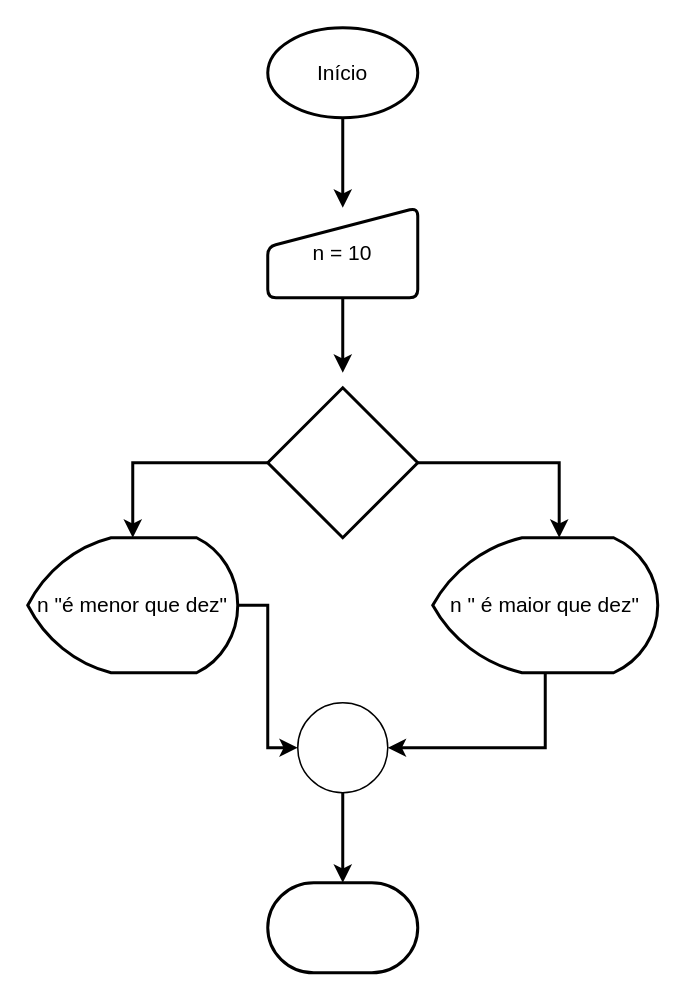
Image size: 684x999. Some labels were removed from this diagram. Each missing label, with the centre of its shape:
Fim: [342,927]
n > 10: [342,462]
